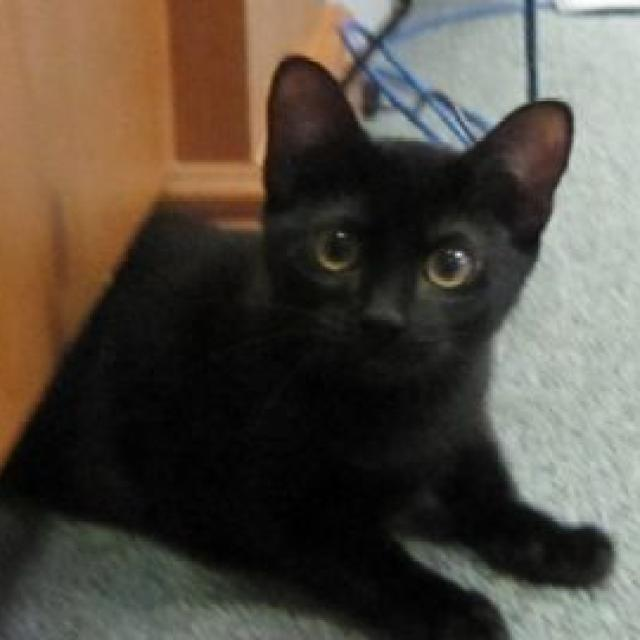Bombay: (0, 49, 619, 640)
